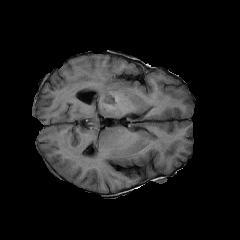glioma: (66, 70, 115, 105)
